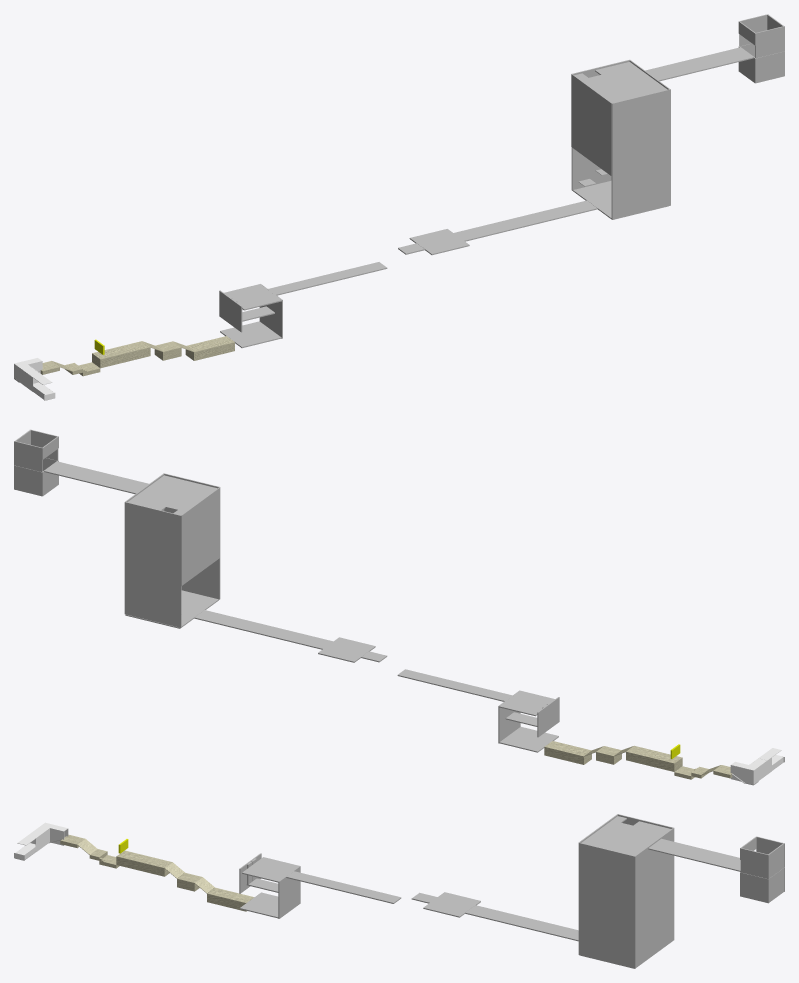
File: Level1.fbx
The picture shows the model from 3 angles, top to bottom: view 1: azimuth 30°, elevation 25°; view 2: azimuth 150°, elevation 25°; view 3: azimuth 330°, elevation 25°; orthographic projection. The views are drawn at different scales.
Parts seen in each view (by area): view 1: Cube__27_, Cube__34_, Cube__38_, Cube__23_, Cube__42_, Cube__26_, Cube__20_, Cube__12_, Cube__15_, Cube__21_, Cube__19_, Cube__24_ (+3 smaller); view 2: Cube__26_, Cube__34_, Cube__38_, Cube__23_, Cube__42_, Cube__27_, Cube__20_, Cube__12_, Cube__15_, Cube__24_, Cube__21_, Cube__19_ (+3 smaller); view 3: Cube__27_, Cube__25_, Cube__38_, Cube__23_, Cube__42_, Cube__20_, Cube__12_, Cube__21_, Cube__19_, Cube__16_, Cube__47_, Cube__43_ (+6 smaller).
Boxes of the visible parts, x1,y1,x2,y2 form: Cube__27_: (611, 89, 670, 219); Cube__34_: (571, 74, 611, 175); Cube__38_: (581, 66, 667, 102); Cube__23_: (454, 200, 597, 241); Cube__42_: (645, 47, 754, 81); Cube__26_: (571, 59, 629, 190); Cube__20_: (268, 262, 387, 295); Cube__12_: (92, 341, 150, 368); Cube__15_: (220, 321, 281, 348); Cube__21_: (409, 229, 469, 255); Cube__19_: (224, 284, 281, 310); Cube__24_: (572, 180, 668, 219); Cube__26_: (124, 502, 181, 627); Cube__34_: (181, 487, 220, 585); Cube__38_: (133, 475, 217, 511); Cube__23_: (194, 610, 332, 649); Cube__42_: (44, 461, 148, 493); Cube__27_: (163, 473, 220, 599); Cube__20_: (397, 669, 512, 701); Cube__12_: (626, 745, 682, 771); Cube__15_: (499, 727, 558, 752); Cube__24_: (125, 590, 218, 628); Cube__21_: (318, 637, 375, 662); Cube__19_: (499, 690, 554, 716); Cube__27_: (578, 842, 635, 968); Cube__25_: (635, 827, 674, 967); Cube__38_: (581, 820, 664, 855); Cube__23_: (465, 905, 578, 941); Cube__42_: (648, 838, 740, 871); Cube__20_: (286, 871, 401, 903); Cube__12_: (116, 850, 172, 876); Cube__21_: (423, 892, 480, 917); Cube__19_: (242, 857, 299, 882); Cube__16_: (278, 866, 300, 918); Cube__47_: (740, 848, 769, 879); Cube__43_: (740, 872, 769, 903).
Size of the model in its own units: 191289 by 46816 by 21446.
